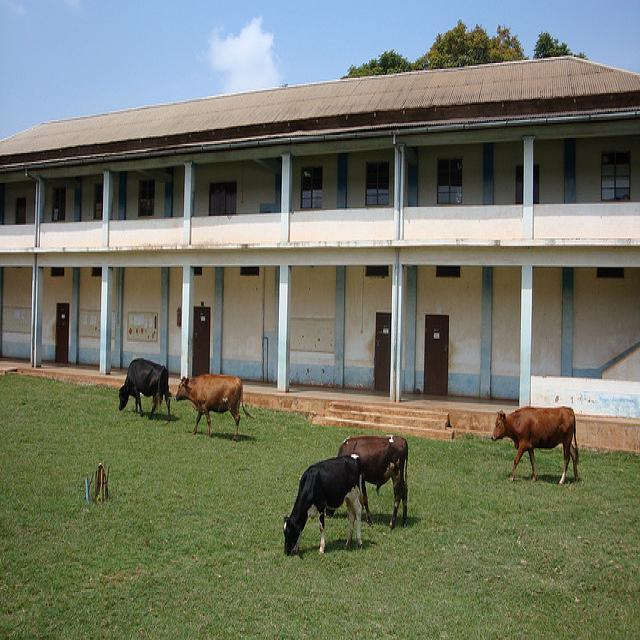cow: (281, 451, 362, 555), (329, 433, 409, 532), (489, 405, 577, 484), (172, 370, 254, 441), (117, 355, 169, 420)
